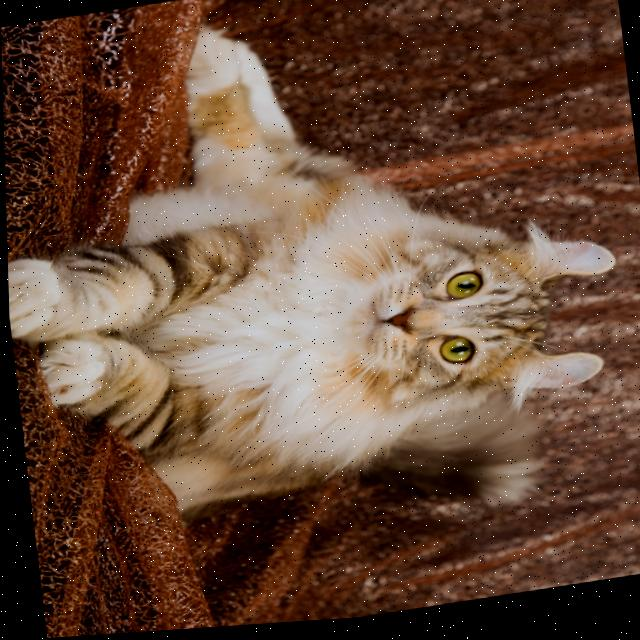American Curl: (0, 0, 640, 578)
